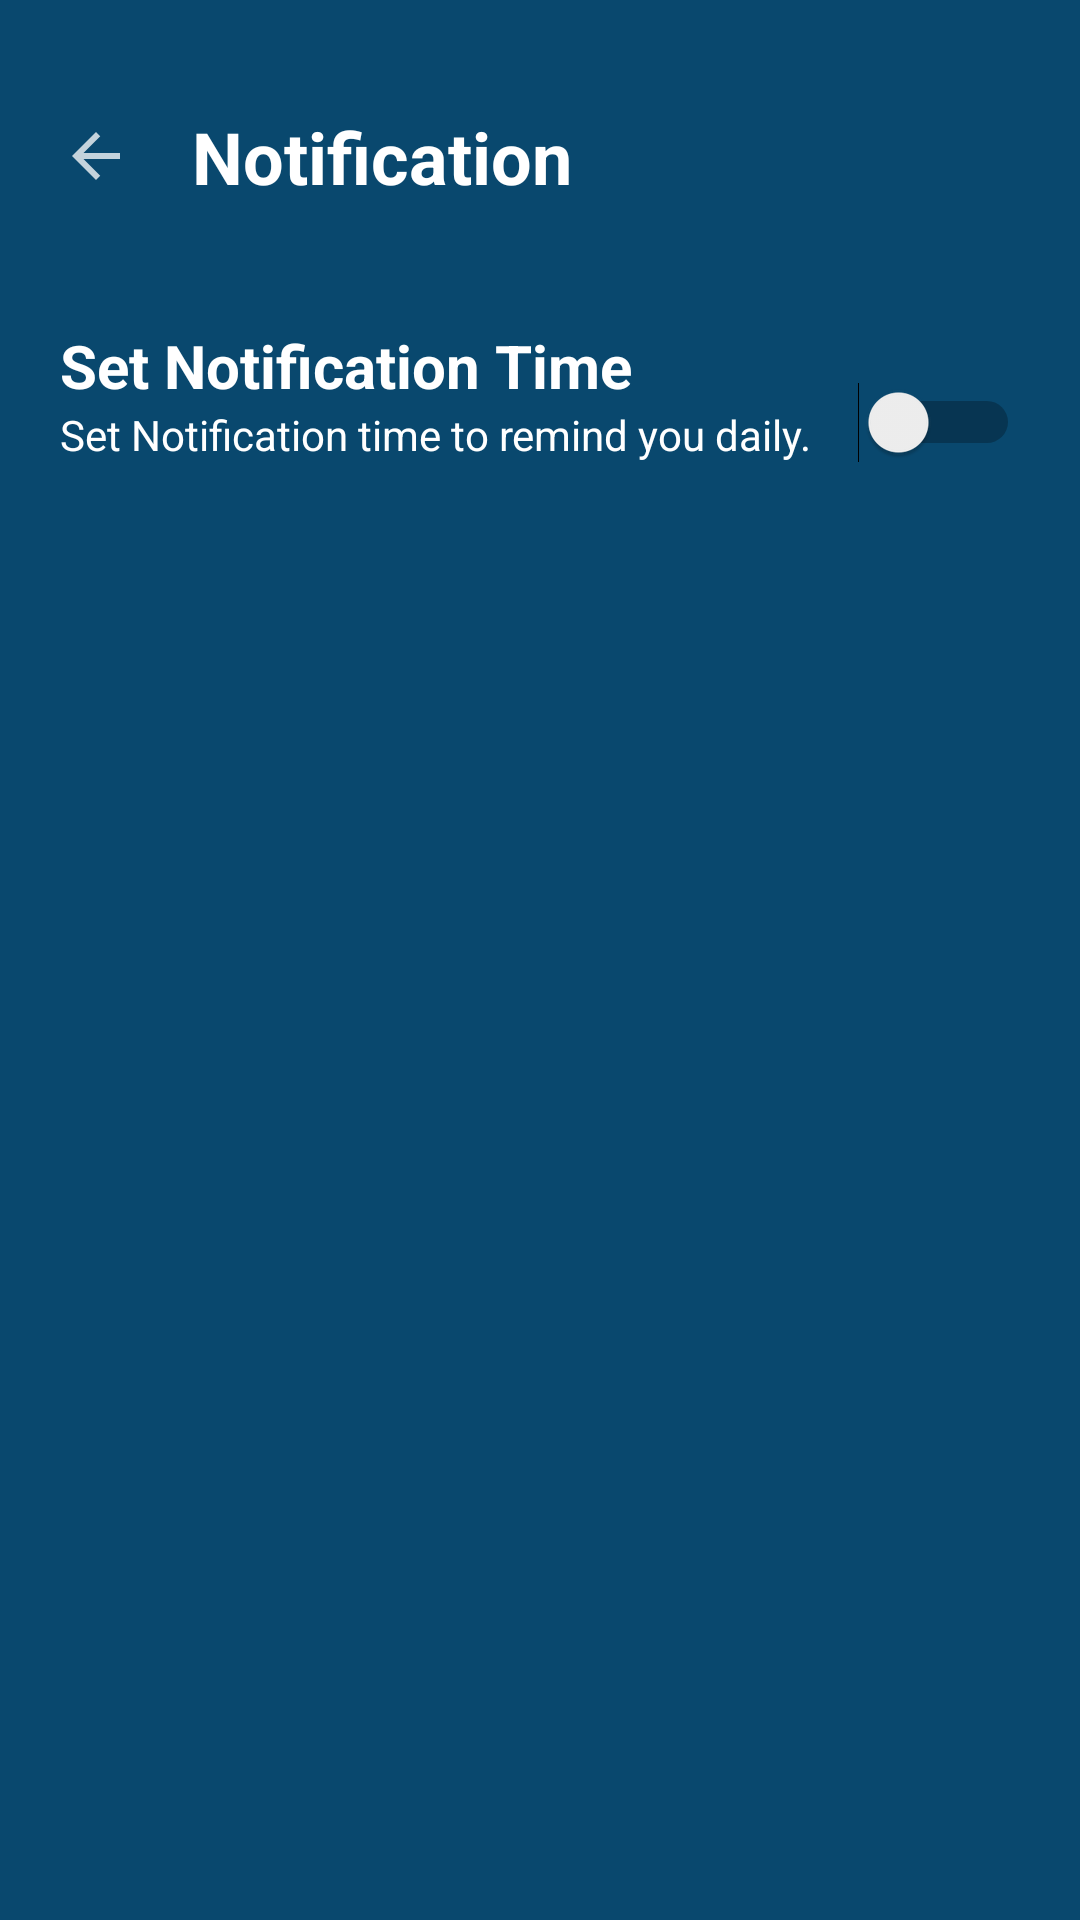

Named icons in this screenshot (1080 x 1920) and their centers, point (x, y):
arrow back: point (96, 156)
